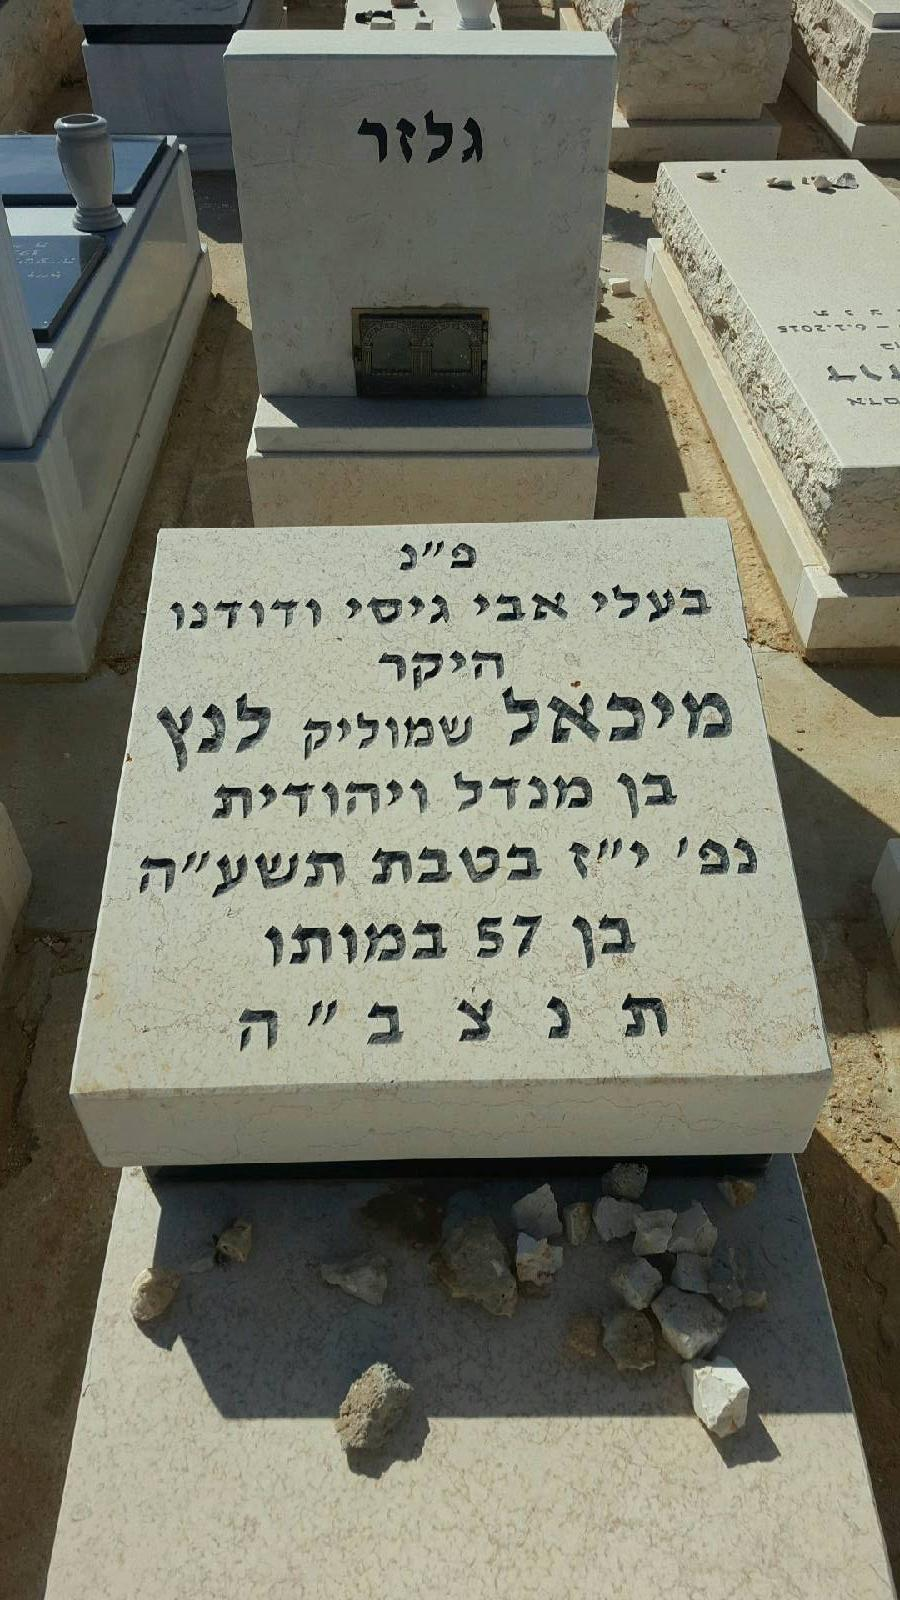vault: (21, 12, 876, 1595)
